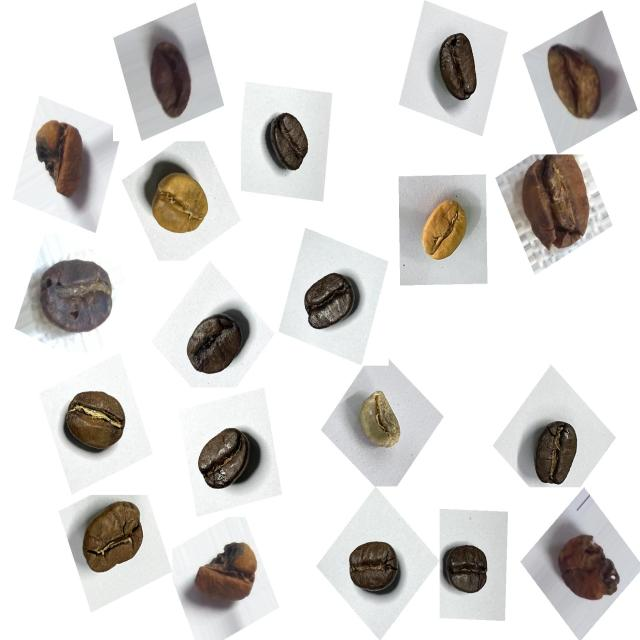bad: (512, 142, 604, 262), (33, 247, 117, 345), (534, 36, 618, 130), (544, 518, 625, 614), (30, 106, 100, 210), (187, 531, 266, 618), (144, 30, 206, 126)
dark: (177, 299, 252, 389), (190, 414, 264, 502), (295, 260, 369, 344), (422, 22, 489, 114), (337, 526, 409, 607), (524, 411, 591, 492), (257, 99, 319, 184), (439, 529, 498, 606)
green: (349, 380, 410, 461)
light: (137, 154, 220, 250), (404, 182, 476, 274)
medium: (74, 493, 154, 585), (54, 380, 137, 467)
